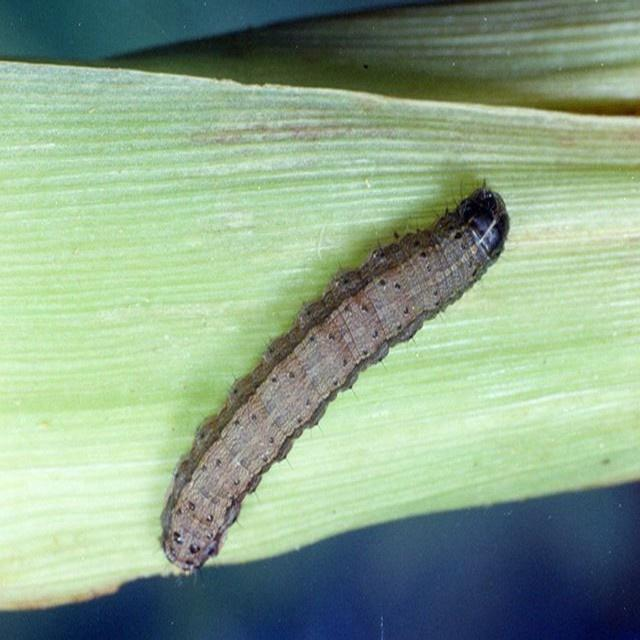gusano_cogollero: (158, 188, 514, 570)
